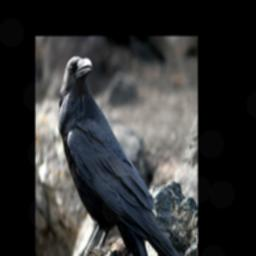Crow: (57, 55, 196, 256)
